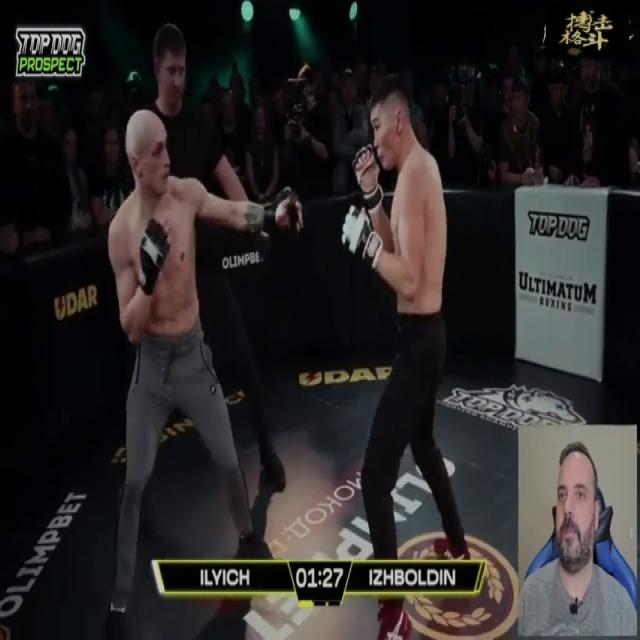fight: (64, 52, 493, 639)
